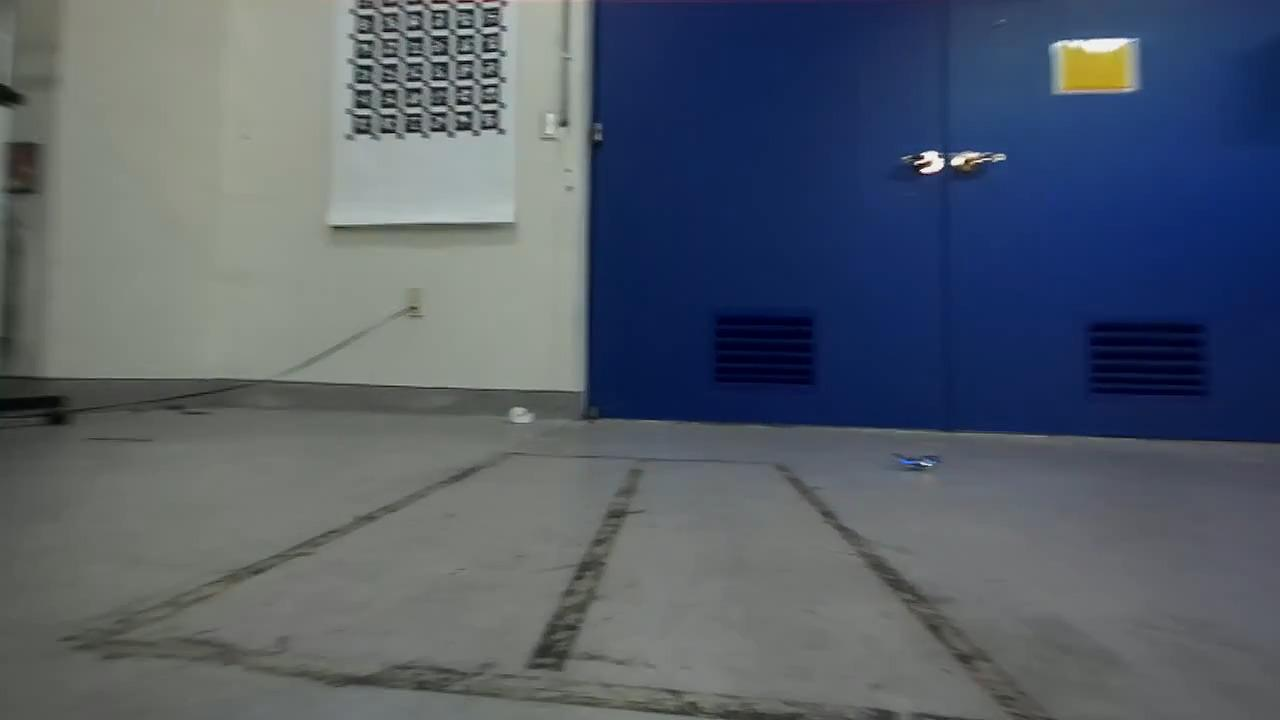crazyflie: (895, 448, 940, 478)
